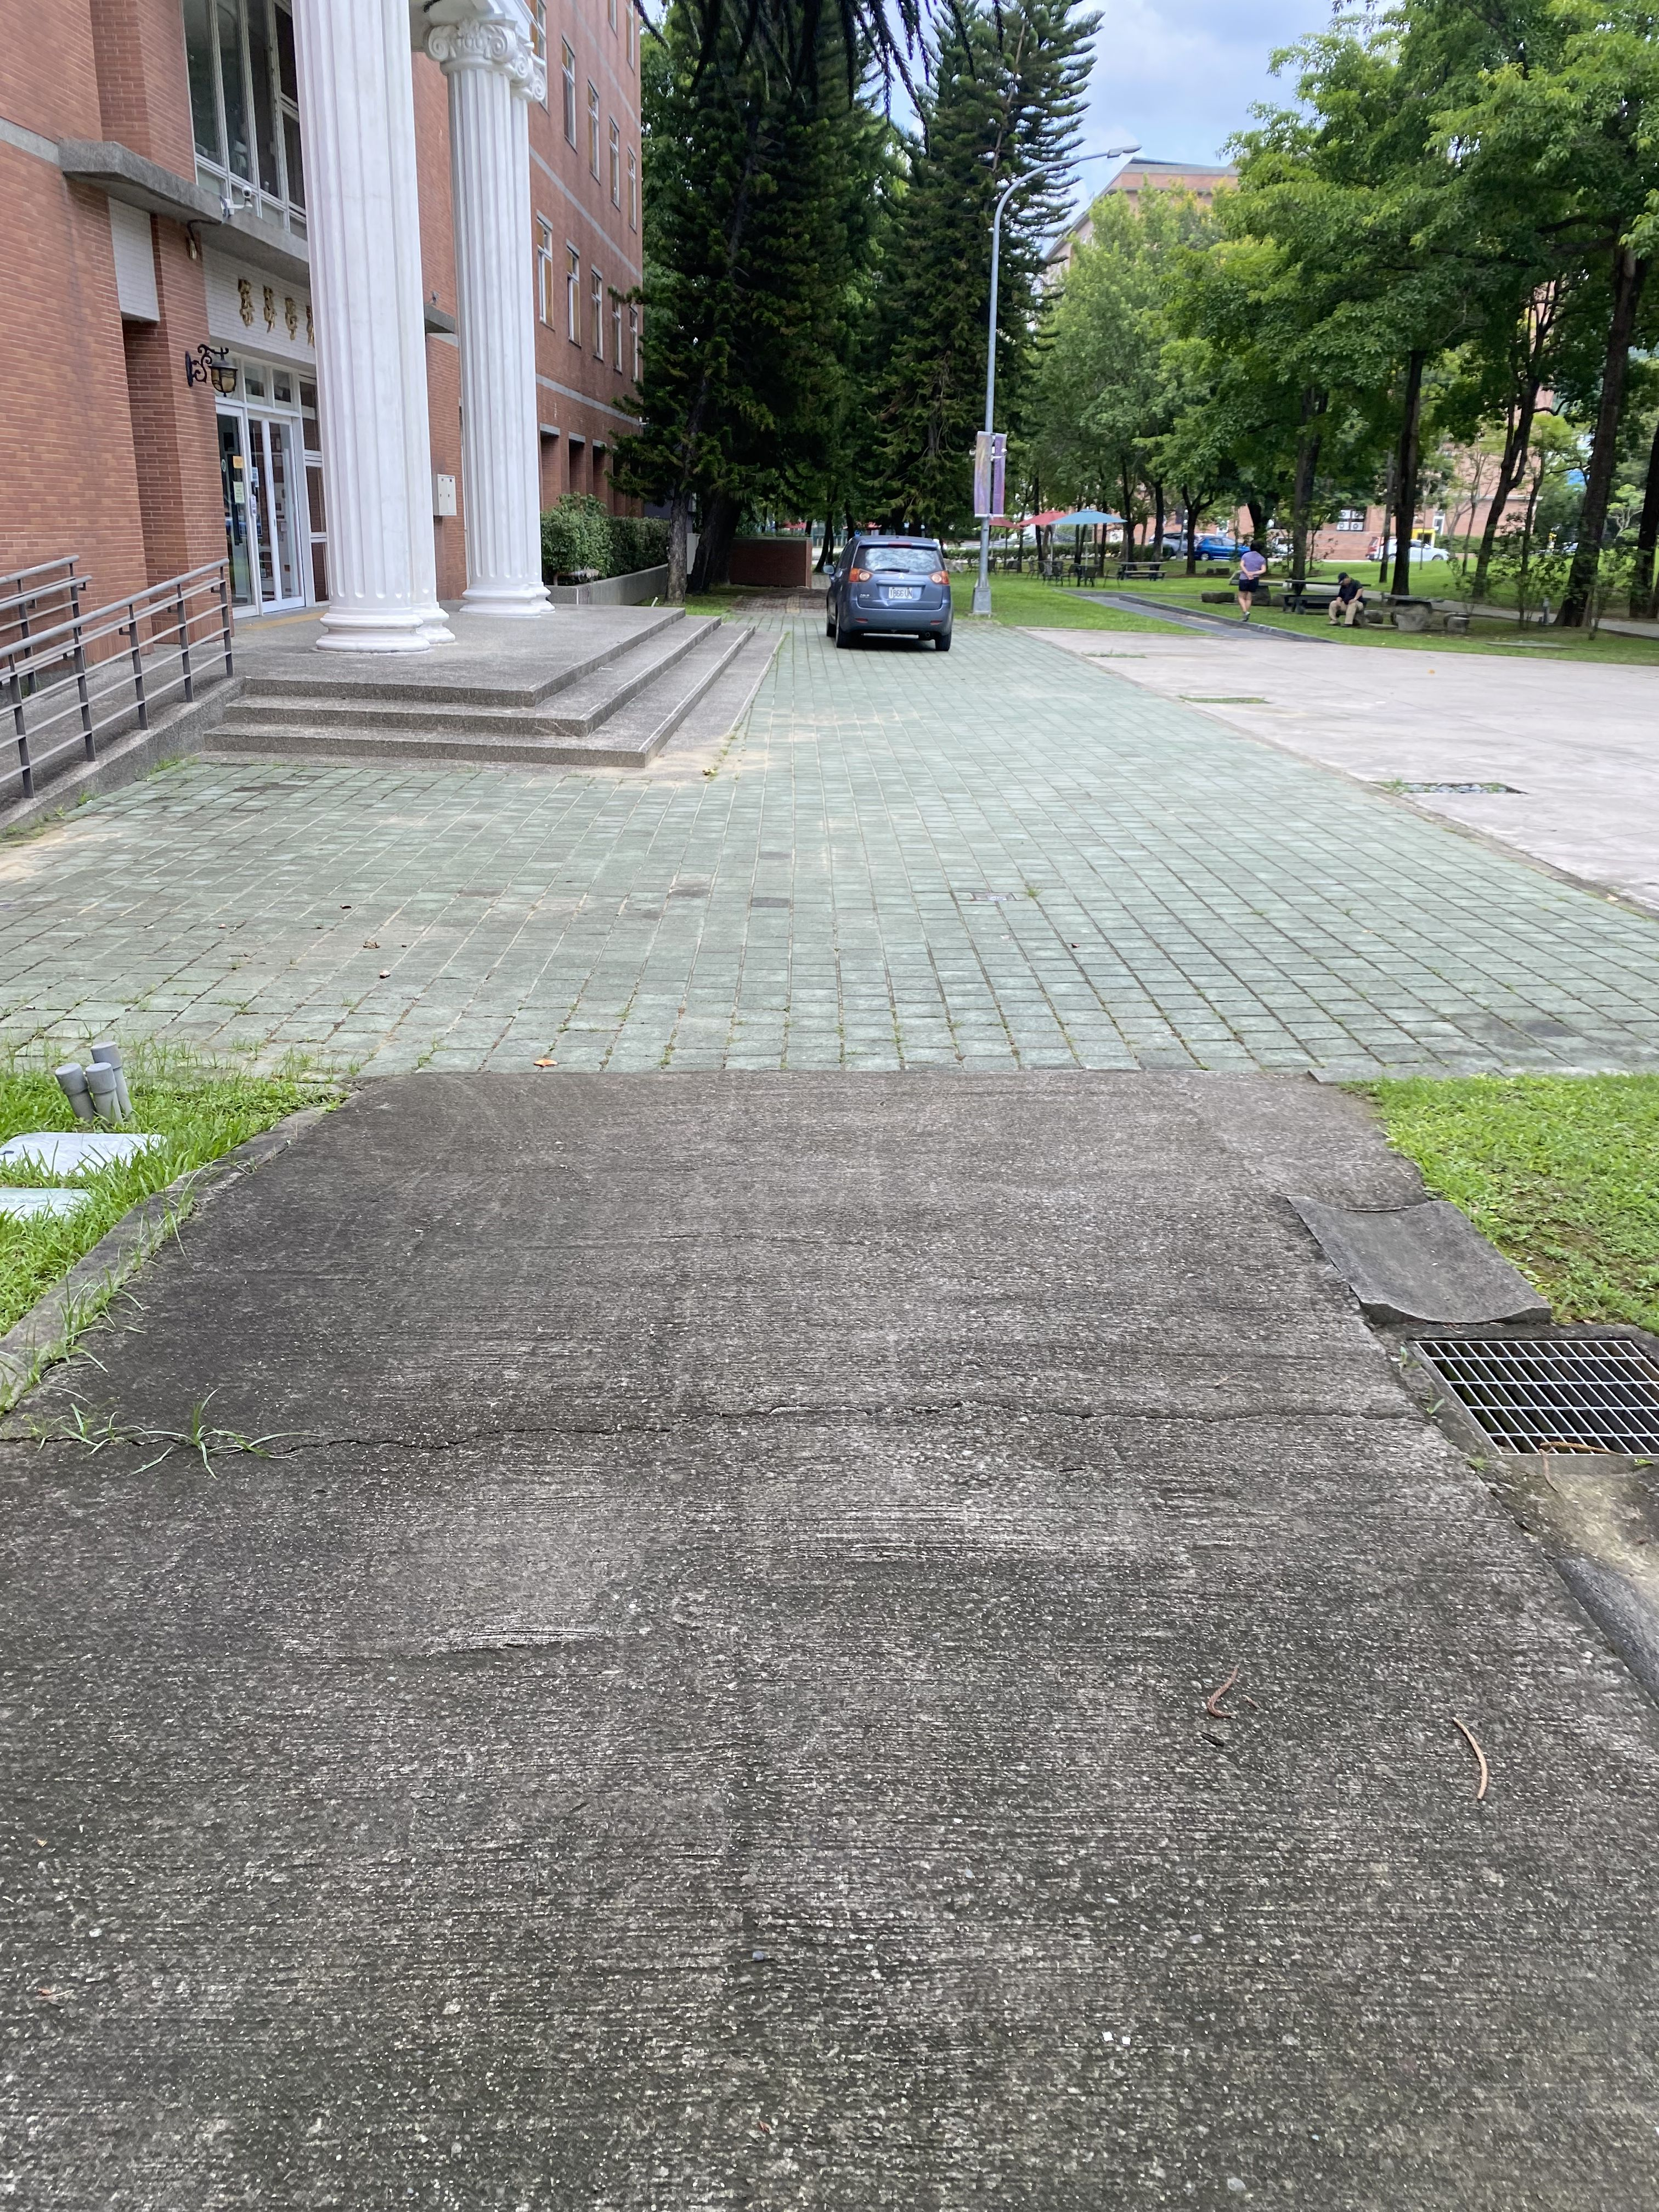sidewalk: (7, 590, 1659, 2212)
